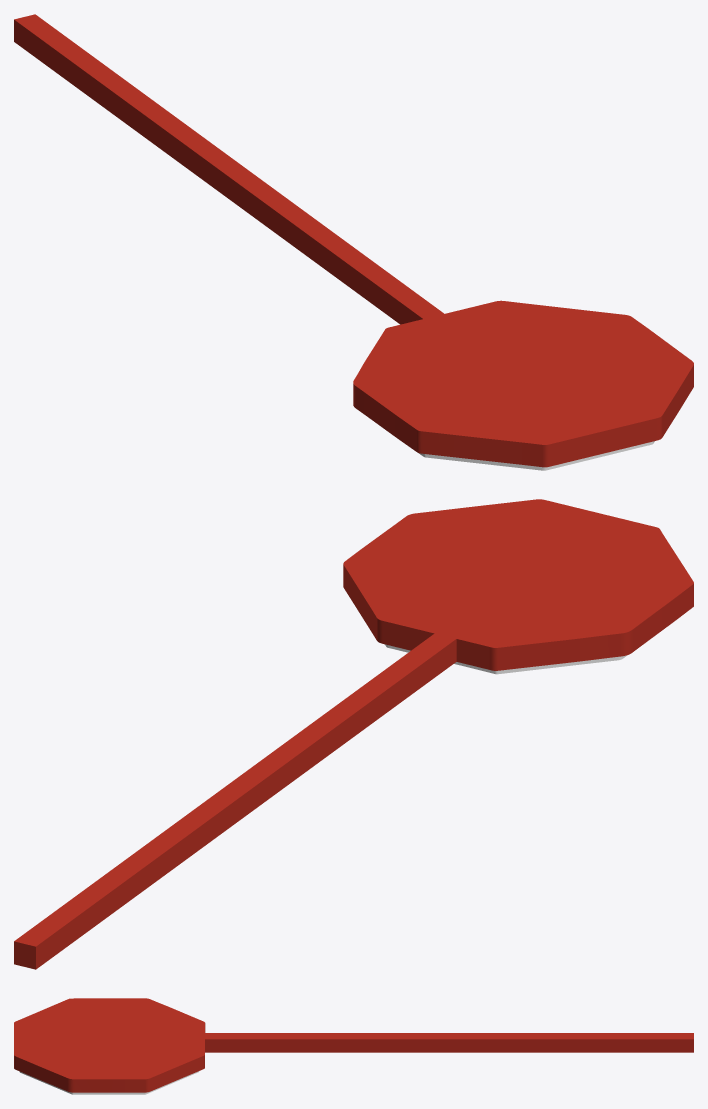
File: placa.glb
3 views of the same model, one above another, from view 1: azimuth 30°, elevation 25°; view 2: azimuth 150°, elevation 25°; view 3: azimuth 270°, elevation 25° (orthographic). The views are drawn at different scales.
Parts seen in each view (by area): view 1: placa.glb; view 2: placa.glb; view 3: placa.glb.
Part boxes in pixels (x1,y1,x2,y2): placa.glb: [14, 14, 693, 470]; placa.glb: [14, 499, 693, 969]; placa.glb: [14, 998, 693, 1094].
Size of the model in its own units: 39.09 by 4 by 139.
